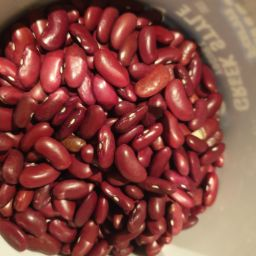Pinto Beans (kidney beans): (10, 19, 237, 256)
